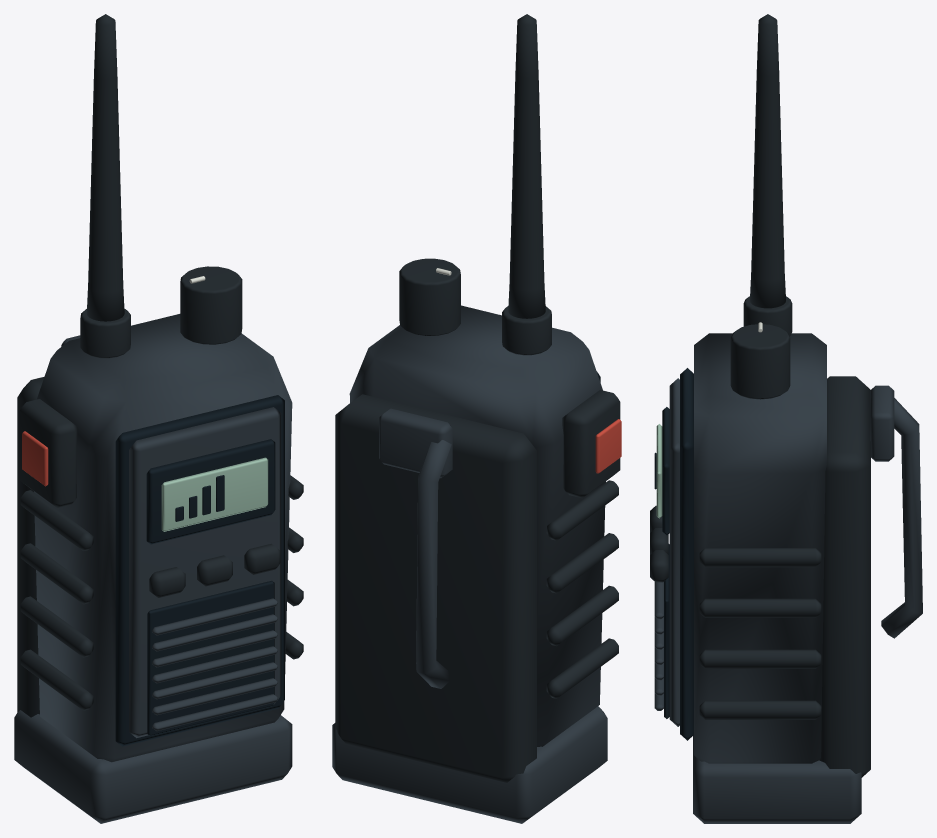
Rendered from P053_walkie_talkie_rebuilt.glb.
3 renders of one model, left to right at view 1: azimuth 30°, elevation 25°; view 2: azimuth 150°, elevation 25°; view 3: azimuth 270°, elevation 25°, orthographic. The views are drawn at different scales.
Visible parts, largest first — view 1: Graphite_molded_housing, Molded_rubber_contact_pads, Recess_and_speaker_cloth, LCD_readable_segments, Safety_red_control; view 2: Molded_rubber_contact_pads, Graphite_molded_housing, Safety_red_control; view 3: Graphite_molded_housing, Molded_rubber_contact_pads, Recess_and_speaker_cloth, LCD_readable_segments.
Part boxes in pixels (x1,y1,x2,y2): Graphite_molded_housing: (14, 314, 292, 823); Molded_rubber_contact_pads: (17, 14, 303, 717); Recess_and_speaker_cloth: (115, 395, 284, 746); LCD_readable_segments: (161, 457, 268, 531); Safety_red_control: (22, 431, 48, 486); Molded_rubber_contact_pads: (335, 14, 620, 782); Graphite_molded_housing: (332, 305, 607, 823); Safety_red_control: (595, 419, 621, 473); Graphite_molded_housing: (654, 333, 922, 823); Molded_rubber_contact_pads: (650, 14, 870, 777); Recess_and_speaker_cloth: (654, 368, 693, 740); LCD_readable_segments: (656, 424, 662, 518).
Size of the model in its own units: 0.144 by 0.438 by 0.1458.
